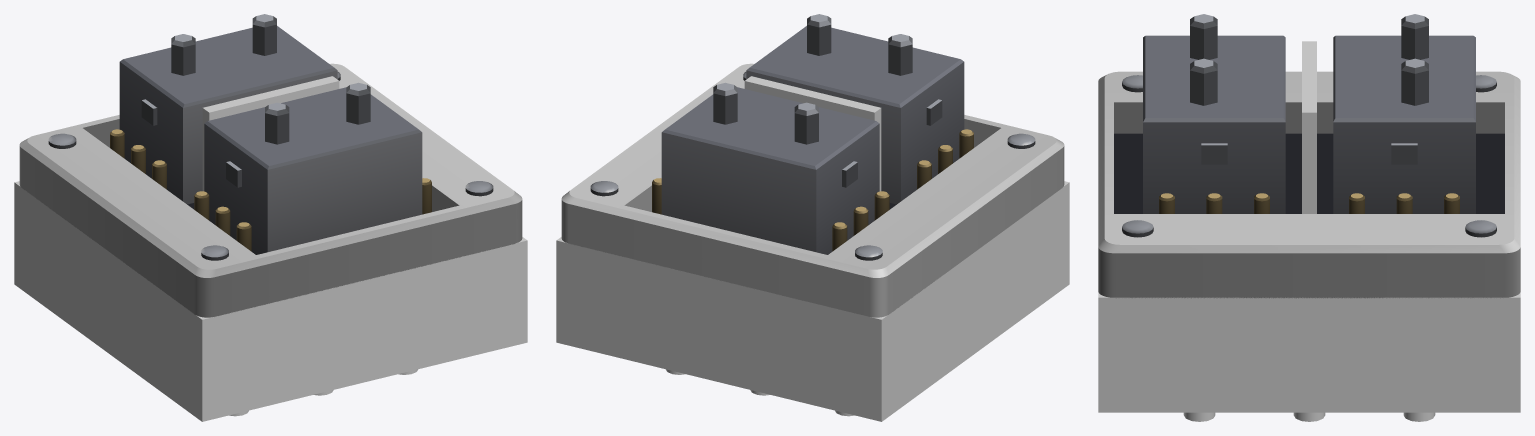
File: part_coupling.glb
The picture shows the model from 3 angles, left to right: view 1: azimuth 30°, elevation 25°; view 2: azimuth 150°, elevation 25°; view 3: azimuth 270°, elevation 25°; orthographic projection. The views are drawn at different scales.
Parts seen in each view (by area): view 1: Gehaeuse, Korpus, Plattform, Licht; view 2: Gehaeuse, Korpus, Plattform, Licht; view 3: Korpus, Gehaeuse, Plattform, Licht, Stecker.
Boxes of the visible parts, x1,y1,x2,y2 form: Gehaeuse: (14,181,527,421); Korpus: (48,14,493,260); Plattform: (19,63,522,317); Licht: (202,76,339,191); Gehaeuse: (556,181,1069,421); Korpus: (590,14,1035,260); Plattform: (561,63,1064,317); Licht: (744,76,881,191); Korpus: (1114,14,1504,237); Gehaeuse: (1098,292,1520,412); Plattform: (1098,71,1520,298); Licht: (1302,41,1316,213); Stecker: (1183,412,1435,421).
Bounding box in the file's own units: 0.8 × 0.685 × 0.8.
